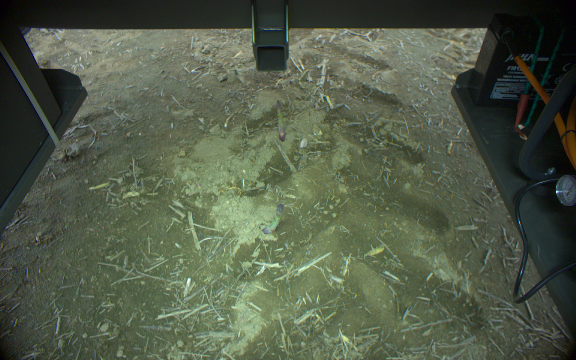aspa: (262, 203, 285, 238), (273, 99, 286, 144)
